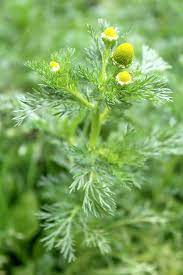pineple: (27, 42, 159, 145)
